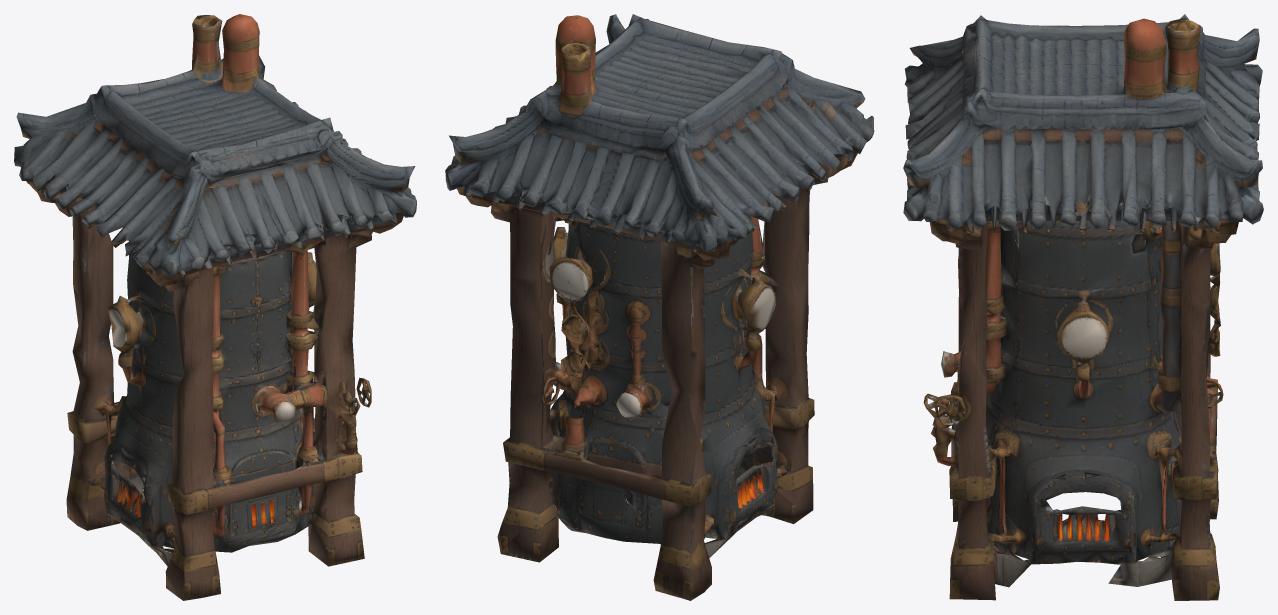
The model's file is PR_Boiler.fbx.
3 views of the same model, side by side, from view 1: azimuth 30°, elevation 25°; view 2: azimuth 150°, elevation 25°; view 3: azimuth 270°, elevation 25° (orthographic). The views are drawn at different scales.
Visible parts, largest first — view 1: texture_mapping; view 2: texture_mapping; view 3: texture_mapping.
Boxes of the visible parts, x1,y1,x2,y2 form: texture_mapping: (14, 14, 416, 600); texture_mapping: (445, 14, 874, 600); texture_mapping: (903, 14, 1263, 600).
Size of the model in its own units: 0.5867 by 0.5854 by 1.
Materials: 1 (1 with a texture image).
